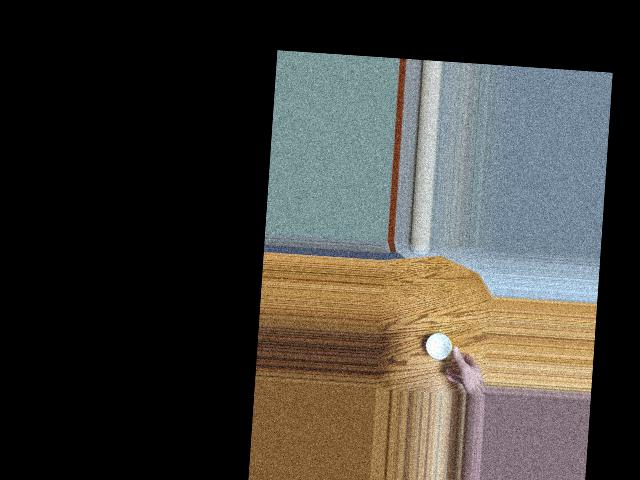cotage: (422, 326, 460, 365)
